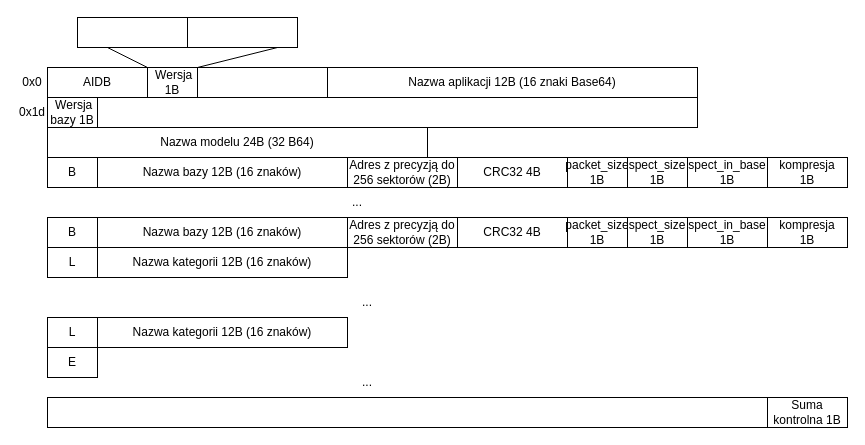
Image size: 865x445. Some labels were removed from this diagram. Each missing label, with the box of its shape:
0x0,0xAA,0xBB (wzór sprawdzający): (196, 66, 328, 98)
[3:0] Wydanie: (186, 16, 298, 48)
[7:4] Wersja: (76, 16, 188, 48)
Vendor modelu (dostawca) 24B (32 znaki Base64): (96, 96, 698, 128)
xxx: (46, 396, 768, 428)
